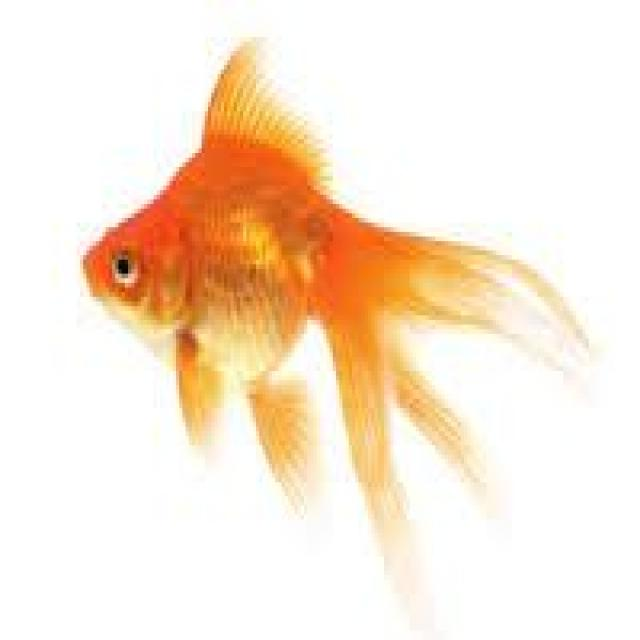Gold-Fish: (57, 36, 579, 538)
